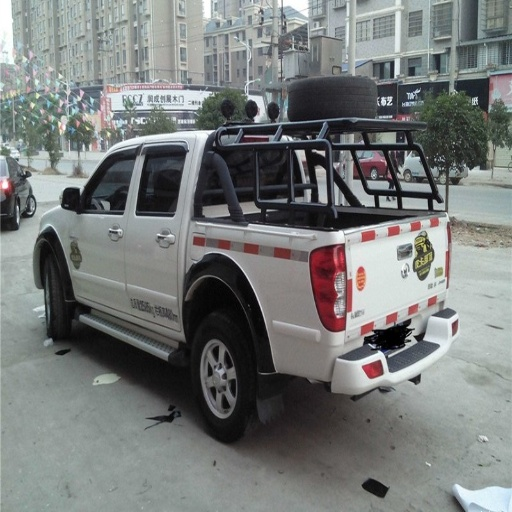back_left_door: (126, 145, 186, 313)
trunk: (162, 213, 444, 374)
